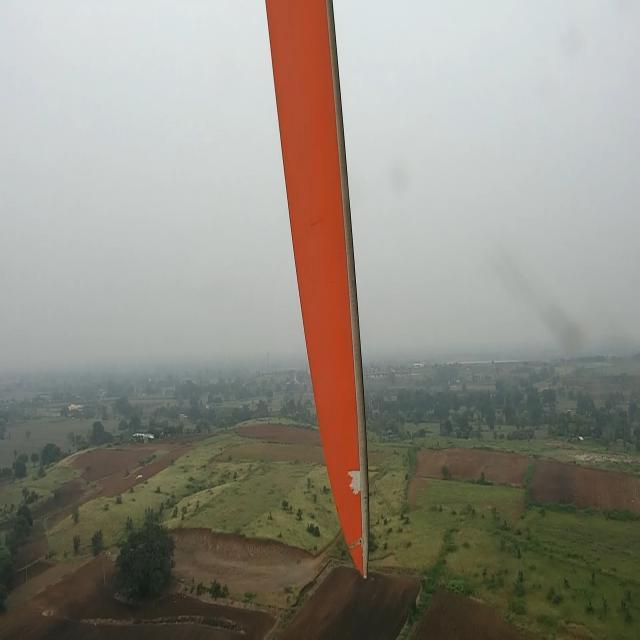PU-tape: (342, 456, 366, 511)
